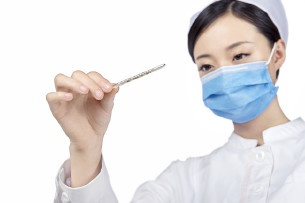Mask: (193, 37, 278, 122)
